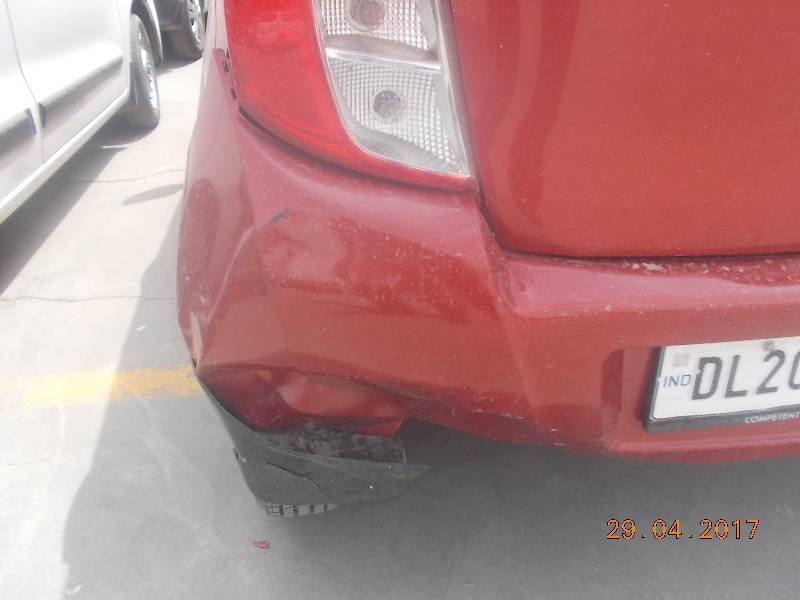Dent: (486, 472, 748, 582)
Scratch_or_spot: (260, 96, 332, 146), (652, 148, 677, 175), (177, 166, 208, 183)
